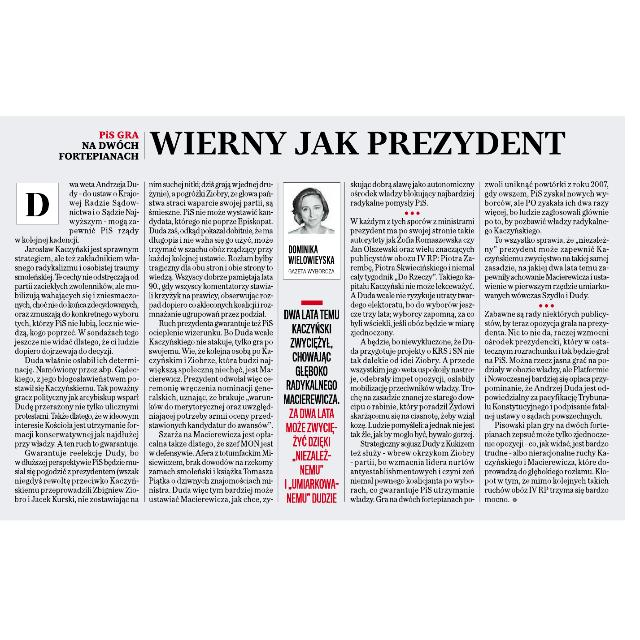author: (284, 239, 338, 267)
body: (9, 177, 141, 509), (483, 179, 613, 507), (348, 179, 477, 507), (147, 179, 275, 507), (280, 296, 342, 508)
title: (56, 122, 574, 164)
